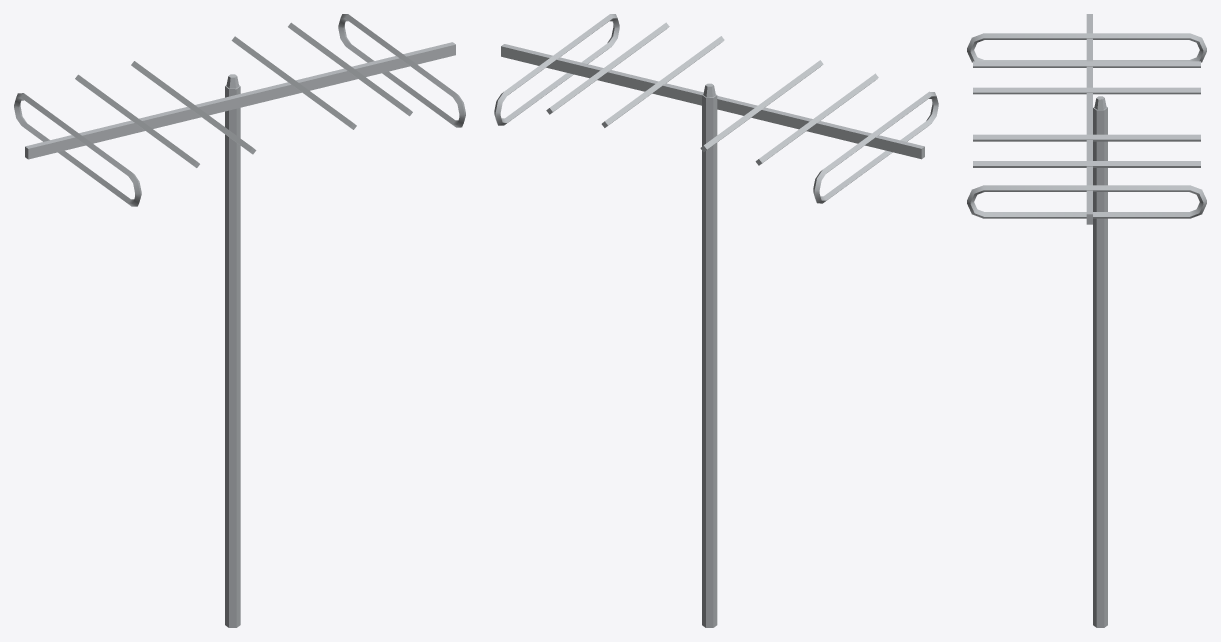
Rendered from SM_antenna_01.fbx.
3 views of the same model, side by side, from view 1: azimuth 30°, elevation 25°; view 2: azimuth 150°, elevation 25°; view 3: azimuth 270°, elevation 25° (orthographic). The views are drawn at different scales.
Visible parts, largest first — view 1: Sphere002; view 2: Sphere002; view 3: Sphere002.
Boxes of the visible parts, x1,y1,x2,y2 form: Sphere002: [14, 14, 465, 627]; Sphere002: [494, 14, 938, 627]; Sphere002: [967, 14, 1206, 627].
Bounding box in the file's own units: 67.67 × 83.01 × 34.2.
